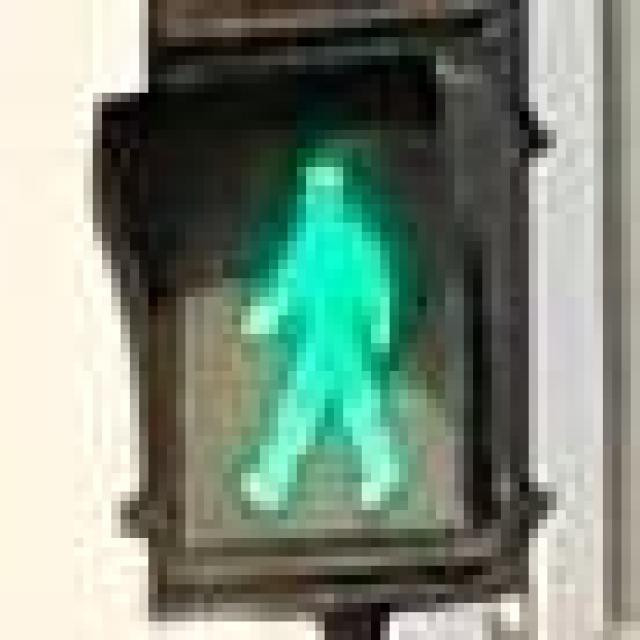geen-crossing: (166, 92, 454, 520)
